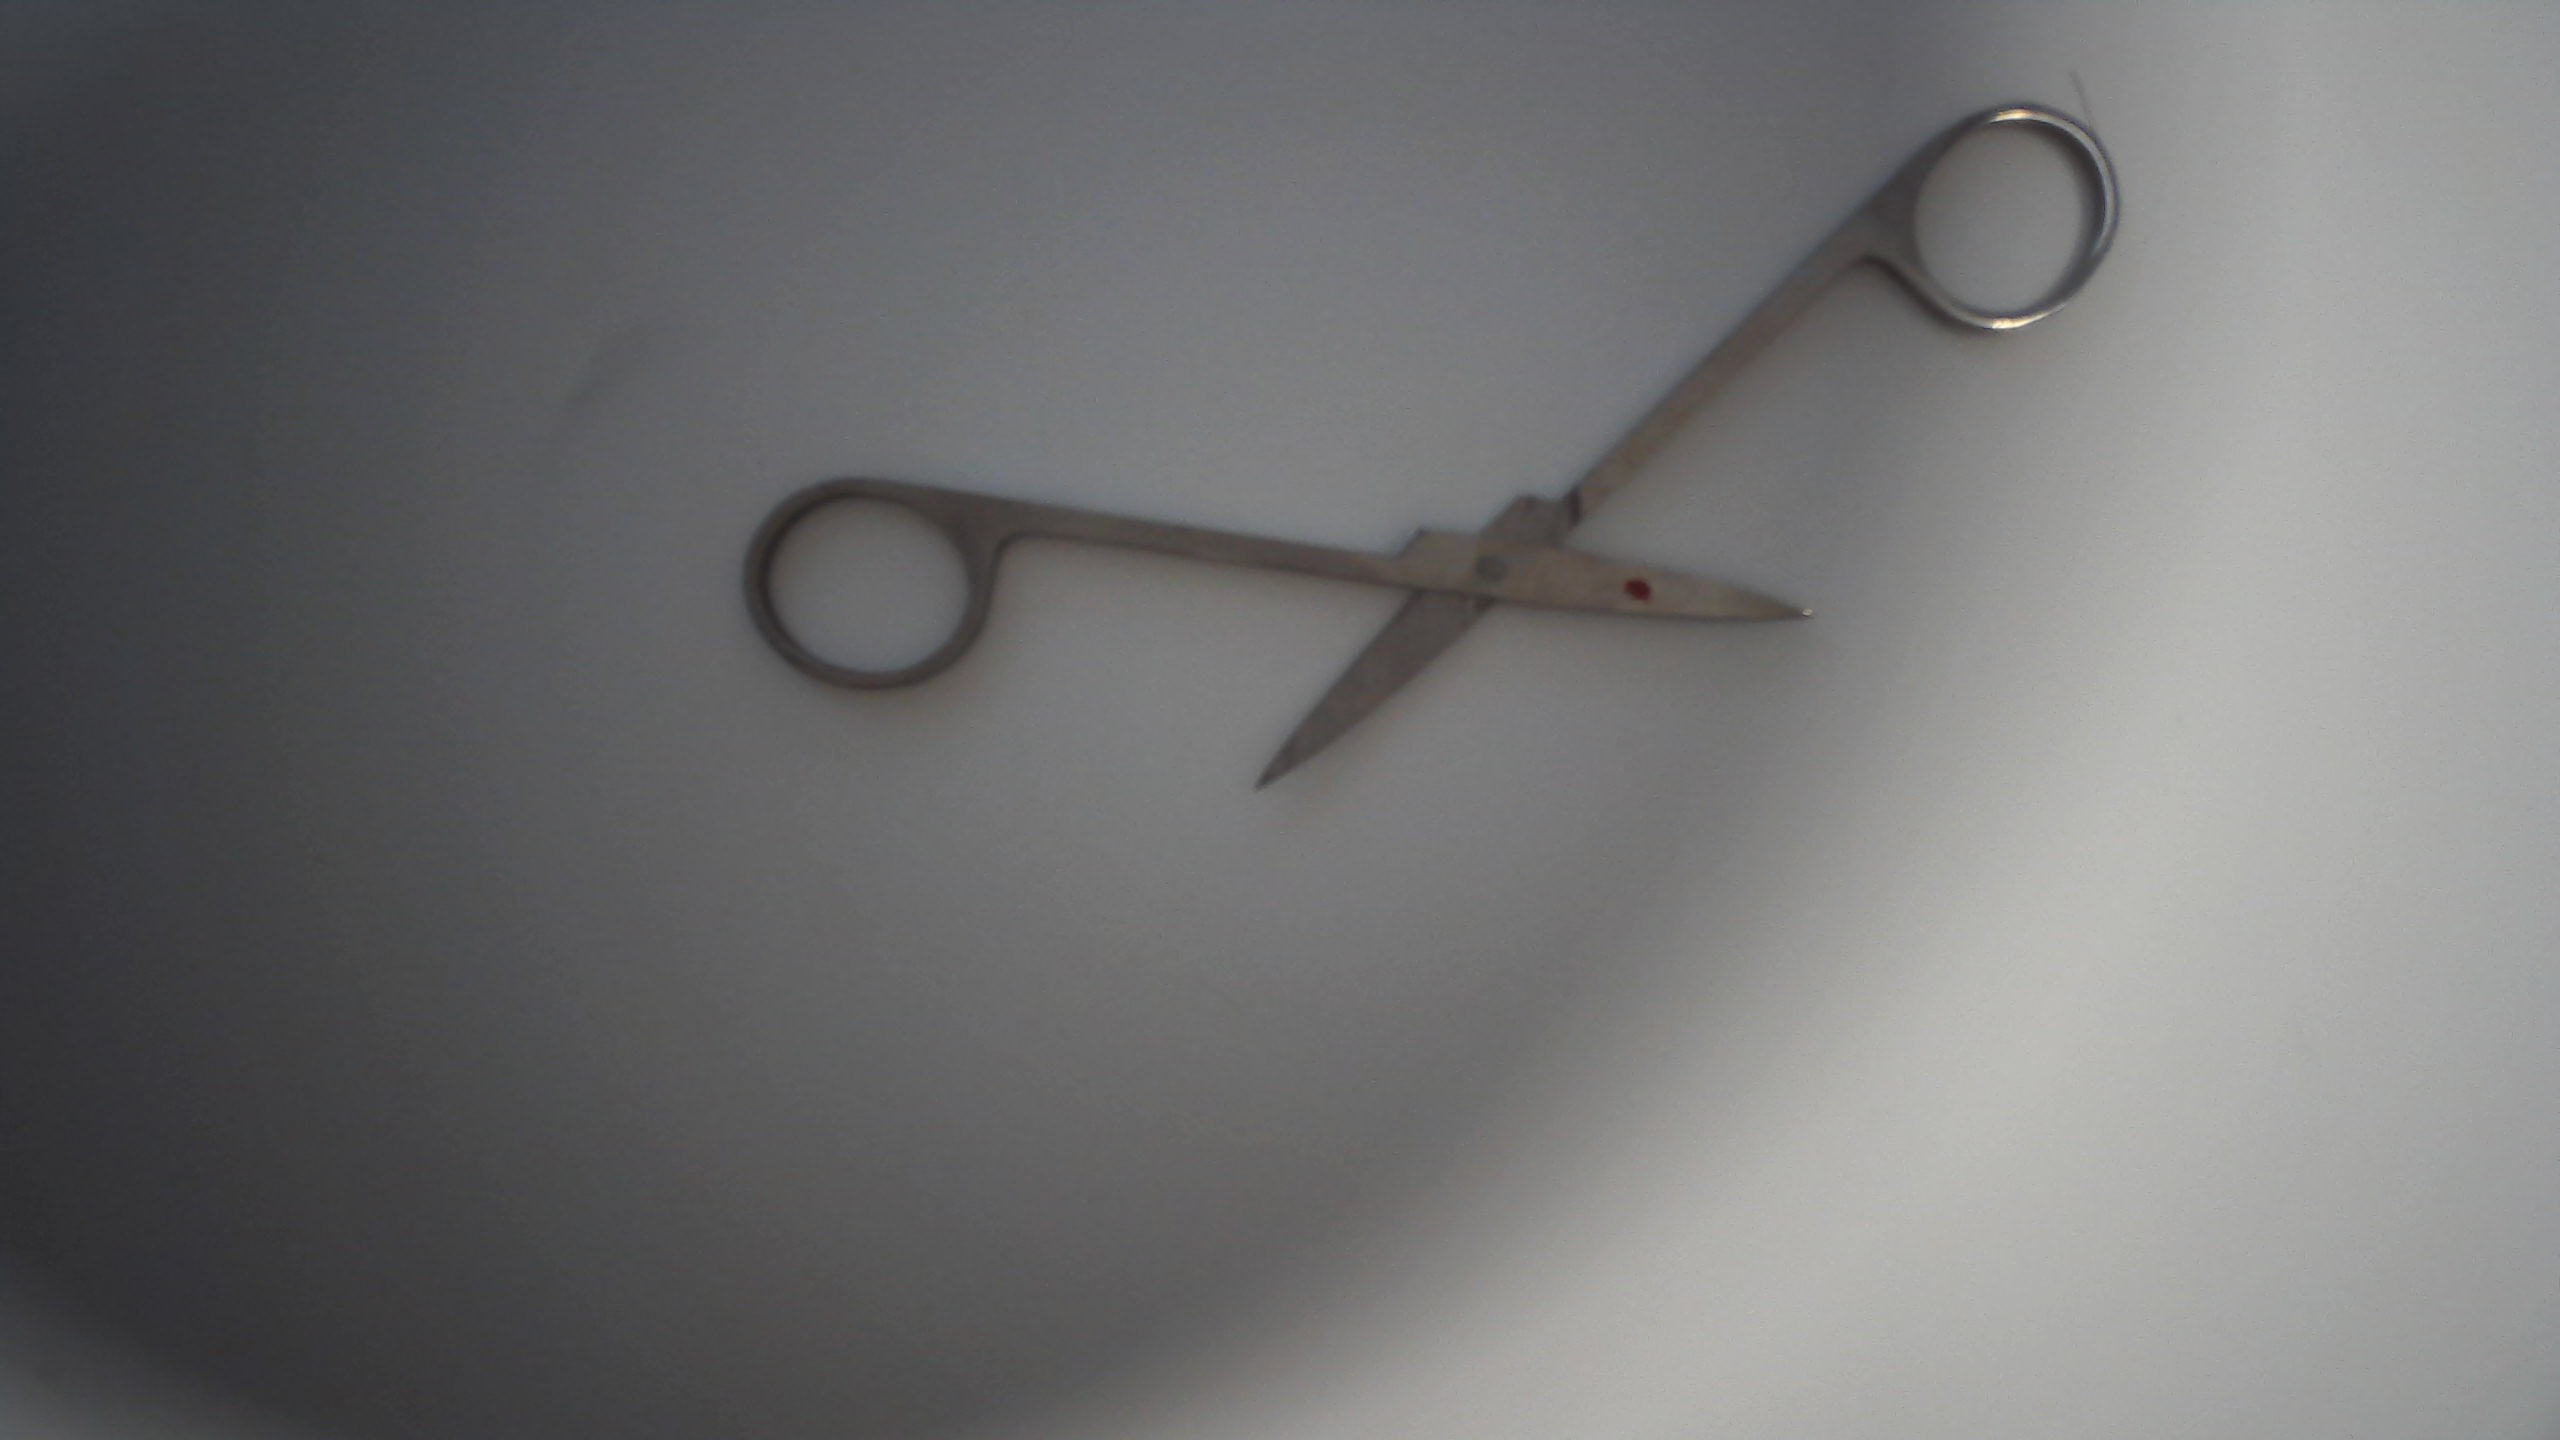Stain: (1623, 573, 1663, 614)
